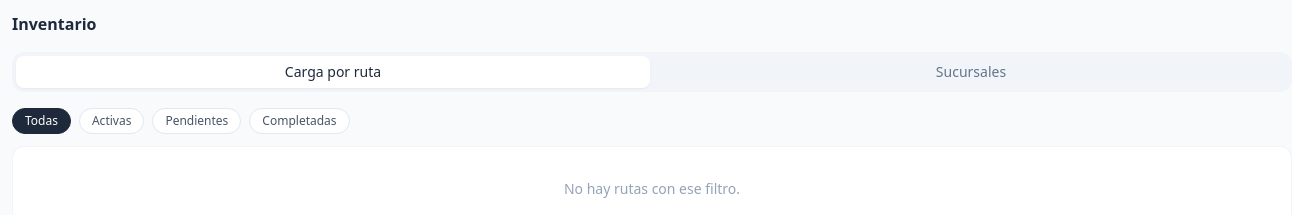
Inventory page › shows empty branches state when no branches returned
Expected: the button "Carga por ruta" is shown, [16,56,650,88]
What coordinates should you click on to do the following:
click the button "Sucursales"
I would click on:
 (971, 72)
Its box is [654,56,1288,88].
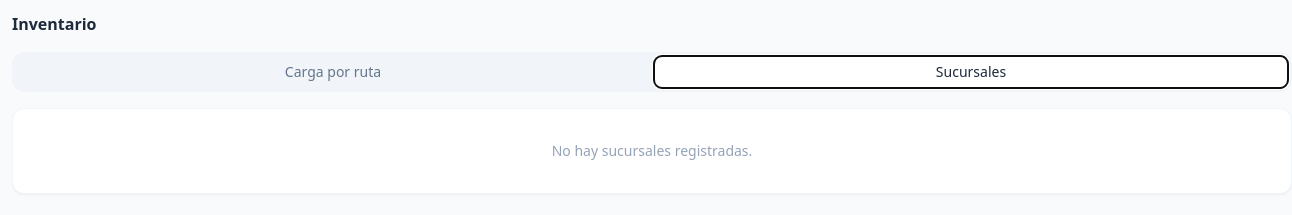
Expected: the text "No hay sucursales registradas." is shown, [12,108,1291,194]
